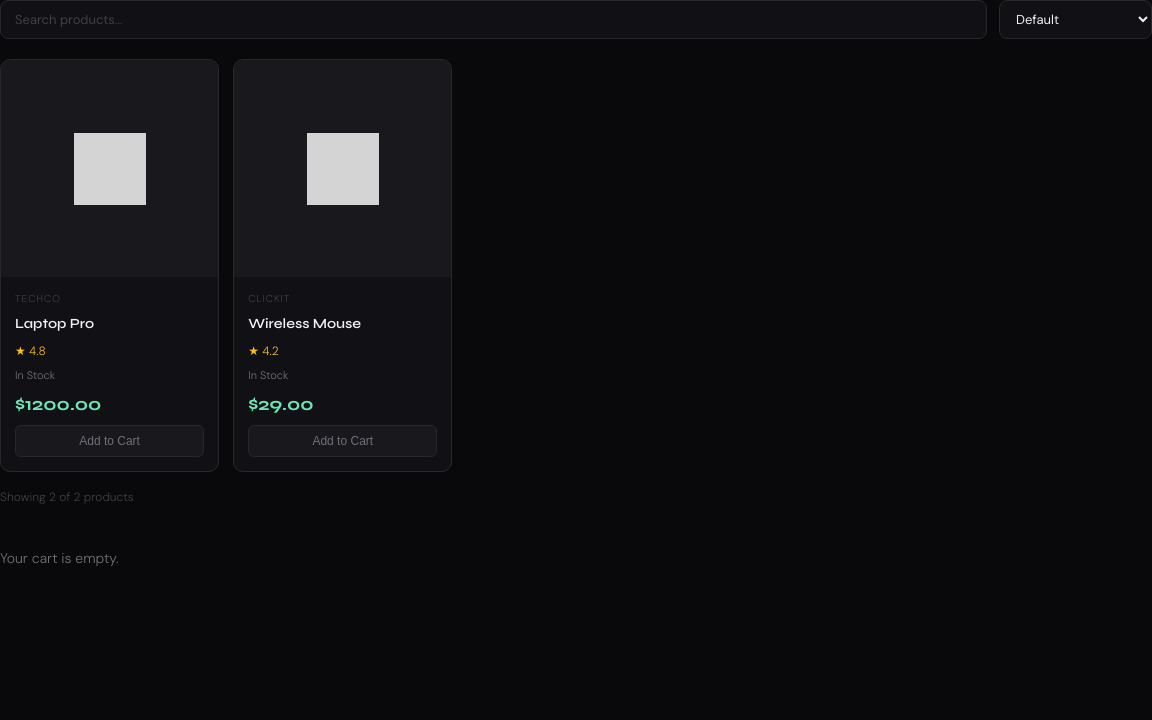
Test: Full Shopping Flow — Product → Cart Integration › adding two different products shows both in cart
The image size is (1152, 720).
Click the button with test id "add-to-cart-btn" below "1200.00" at [110, 441], box left=15, top=425, right=204, bottom=457
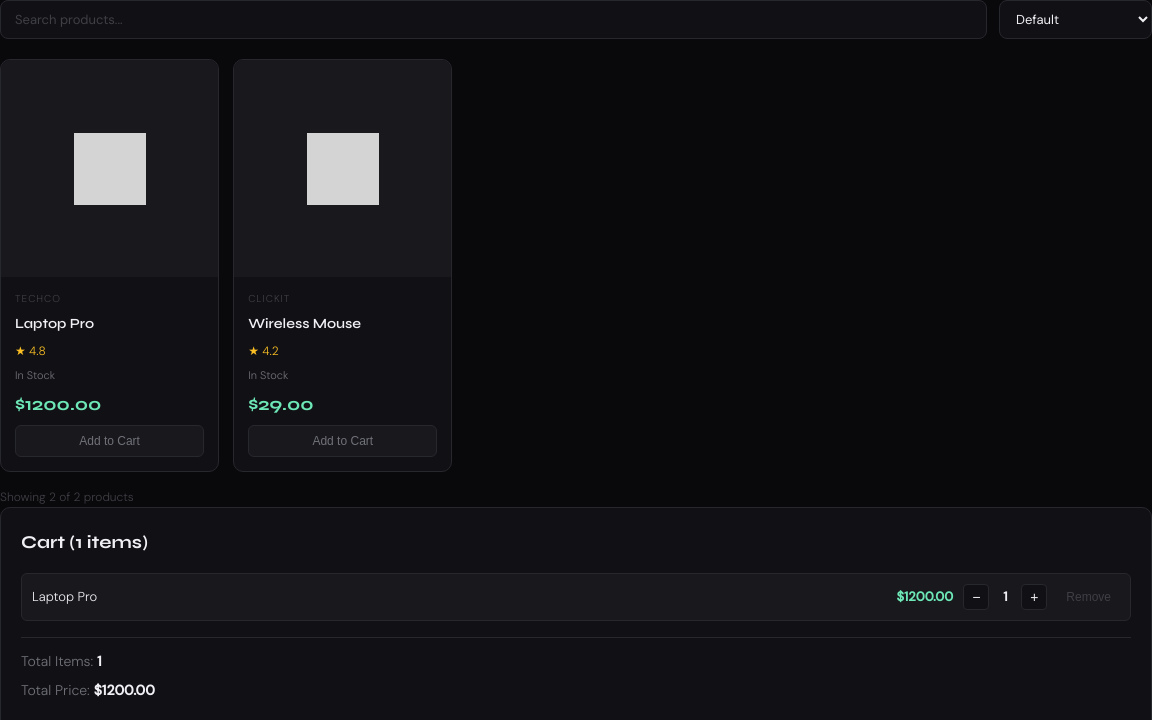
Click the button with test id "add-to-cart-btn" below "29.00" at [343, 441], box left=248, top=425, right=437, bottom=457
(page scrolled)
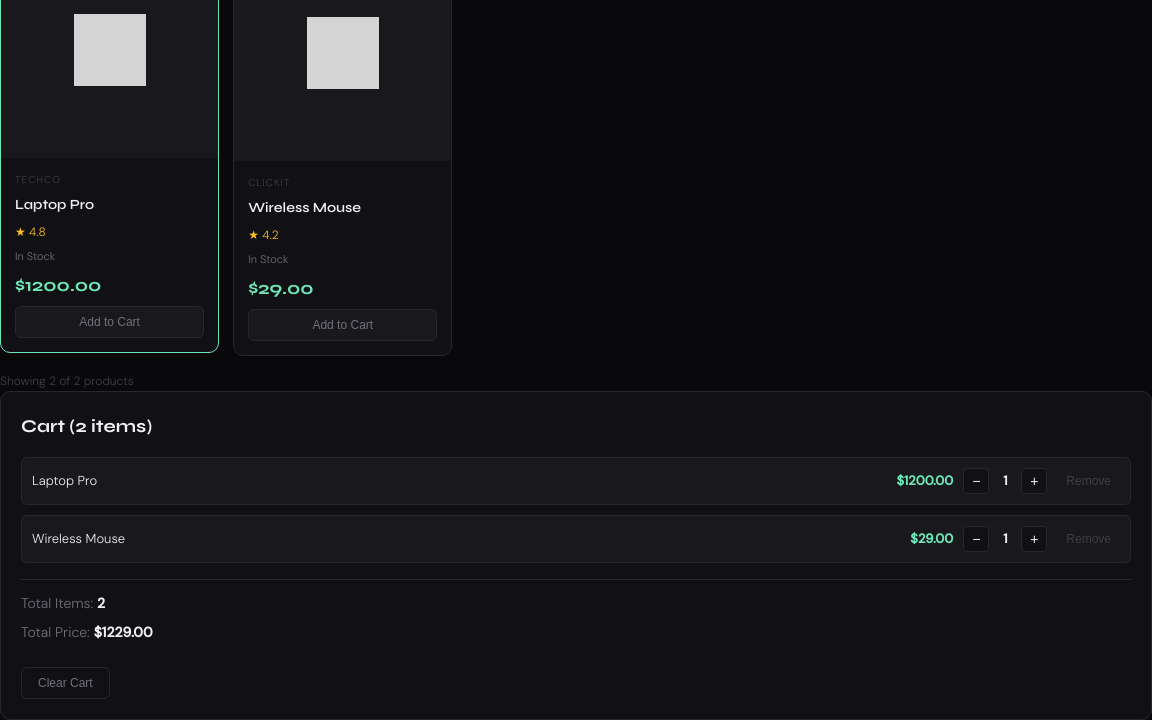
Now the text "Laptop Pro" is shown, box left=32, top=472, right=97, bottom=489
Now the text "Wireless Mouse" is shown, box left=32, top=530, right=125, bottom=547
Now the text with test id "total-items" reads "2", box left=97, top=594, right=105, bottom=612
